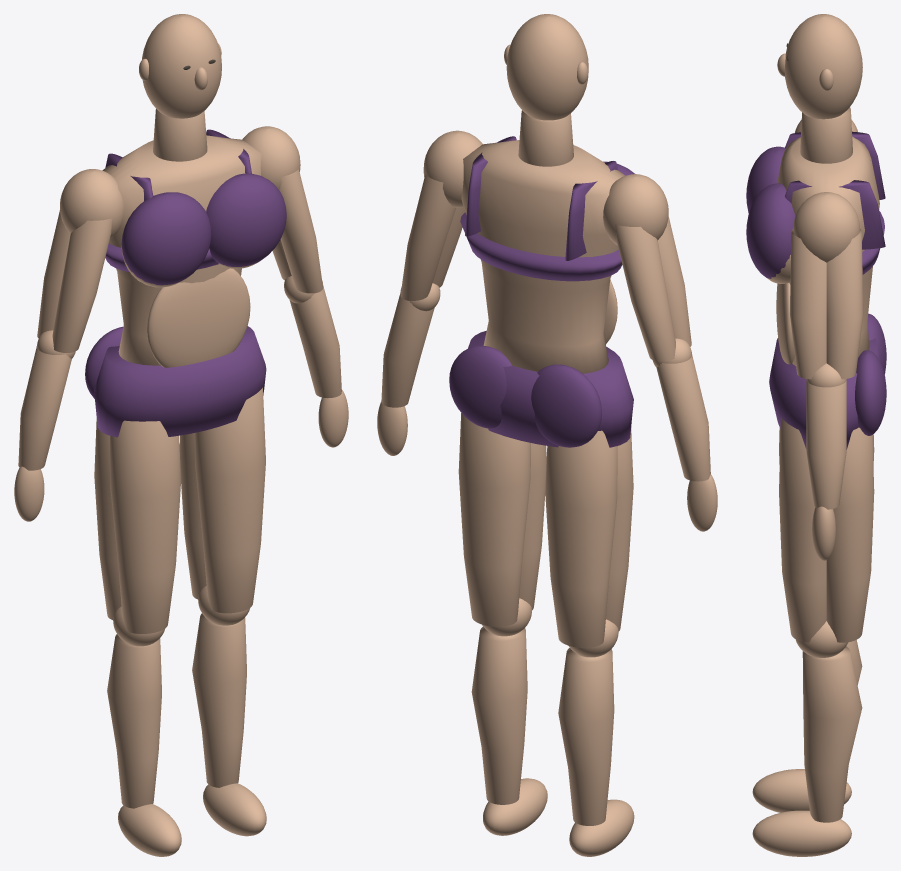
The model's file is female.glb.
3 views of the same model, side by side, from view 1: azimuth 30°, elevation 25°; view 2: azimuth 150°, elevation 25°; view 3: azimuth 270°, elevation 25° (orthographic).
Visible parts, largest first — view 1: quadriceps_right, quadriceps_left, briefs, torso, abs, calves_left, calves_right, sports_bra_right, head, sports_bra_left, biceps_right, forearms_right (+15 smaller); view 2: torso, hamstrings_right, hamstrings_left, calves_right, calves_left, head, briefs, triceps_right, glutes_right, forearms_right, triceps_left, glutes_left (+17 smaller); view 3: calves_left, hamstrings_left, quadriceps_left, head, torso, forearms_left, triceps_left, biceps_left, sports_bra_left, foot_left, shoulders_left, briefs (+14 smaller).
Boxes of the visible parts, x1,y1,x2,y2 form: quadriceps_right: [110, 420, 180, 633]; quadriceps_left: [195, 387, 265, 613]; briefs: [94, 326, 266, 437]; torso: [102, 135, 261, 365]; abs: [147, 268, 250, 367]; calves_left: [192, 613, 246, 787]; calves_right: [107, 634, 161, 808]; sports_bra_right: [121, 192, 211, 285]; head: [142, 14, 221, 118]; sports_bra_left: [206, 173, 286, 266]; biceps_right: [52, 218, 112, 352]; forearms_right: [18, 346, 71, 470]; torso: [461, 140, 625, 373]; hamstrings_right: [545, 430, 617, 647]; hamstrings_left: [458, 413, 530, 626]; calves_right: [558, 648, 614, 825]; calves_left: [471, 626, 527, 804]; head: [506, 14, 588, 120]; briefs: [468, 331, 633, 447]; triceps_right: [615, 224, 675, 361]; glutes_right: [531, 364, 601, 447]; forearms_right: [656, 354, 710, 481]; triceps_left: [400, 174, 455, 300]; glutes_left: [449, 346, 511, 428]; calves_left: [802, 646, 862, 822]; hamstrings_left: [826, 427, 874, 642]; quadriceps_left: [779, 417, 826, 642]; head: [784, 14, 862, 119]; torso: [777, 136, 879, 366]; forearms_left: [806, 380, 846, 509]; triceps_left: [826, 229, 863, 379]; biceps_left: [790, 229, 826, 379]; sports_bra_left: [746, 183, 795, 278]; foot_left: [752, 810, 851, 856]; shoulders_left: [793, 192, 860, 262]; briefs: [769, 338, 880, 449].
Size of the model in its own units: 0.742 by 1.74 by 0.271.
